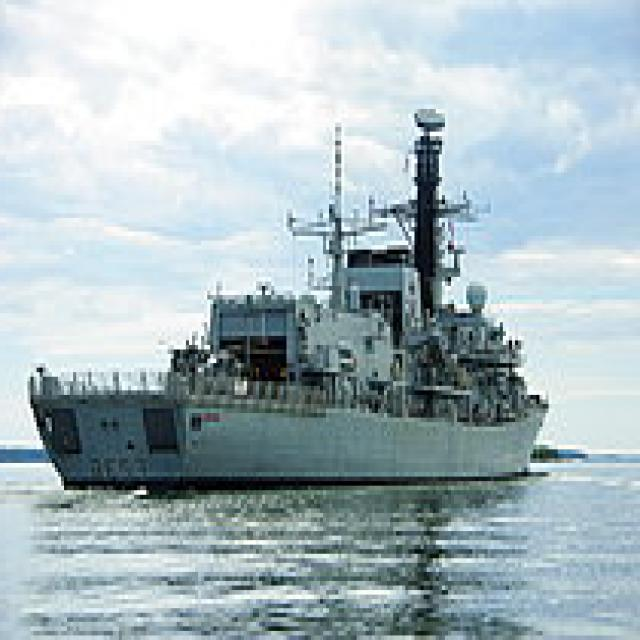Warship: (31, 96, 554, 490)
